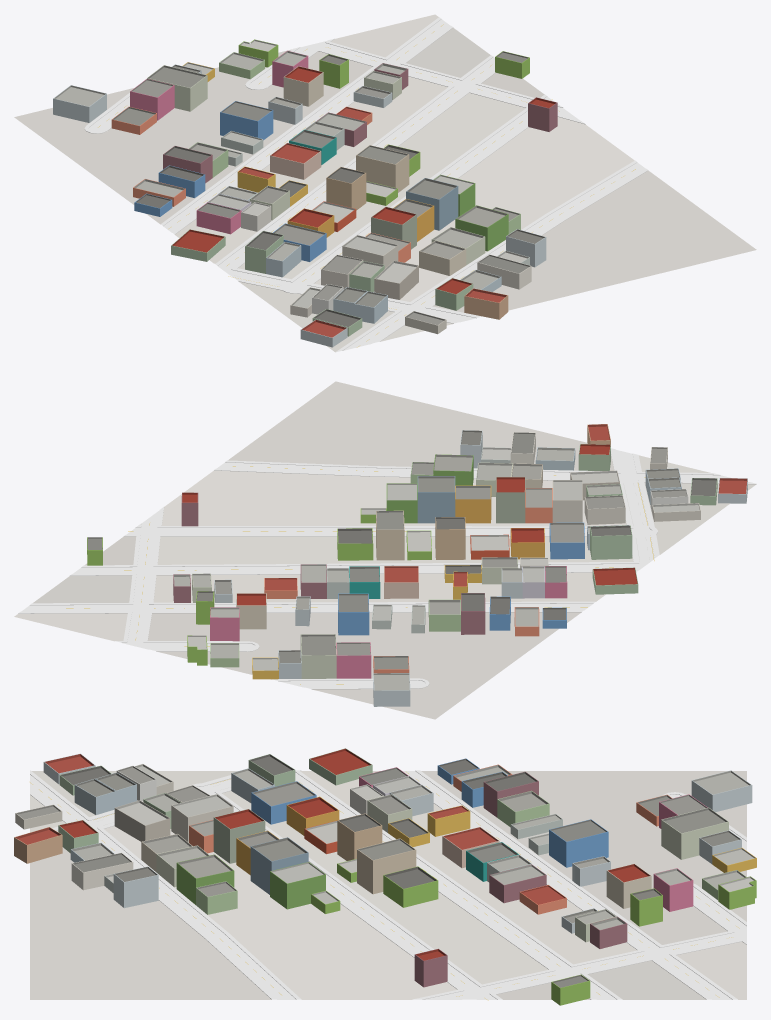
3 views of the same model, one above another, from view 1: azimuth 30°, elevation 25°; view 2: azimuth 150°, elevation 25°; view 3: azimuth 270°, elevation 25° (orthographic). The views are drawn at different scales.
Parts seen in each view (by area): view 1: ground, walls, roofs, asphalt, sidewalk; view 2: ground, roofs, walls, asphalt, sidewalk; view 3: ground, walls, roofs, asphalt, sidewalk.
Part boxes in pixels (x1,y1,x2,y2): ground: [14, 14, 756, 352]; walls: [53, 45, 557, 347]; roofs: [53, 39, 557, 337]; asphalt: [89, 19, 645, 350]; sidewalk: [84, 17, 648, 352]; ground: [14, 381, 756, 719]; roofs: [87, 424, 747, 690]; walls: [87, 426, 747, 706]; asphalt: [21, 450, 730, 687]; sidewalk: [18, 448, 756, 689]; ground: [30, 771, 746, 999]; walls: [14, 759, 756, 1005]; roofs: [14, 748, 756, 988]; asphalt: [30, 771, 746, 999]; sidewalk: [30, 770, 746, 999].
Size of what is drawn, in the model's own units: 204 by 13.34 by 259.
